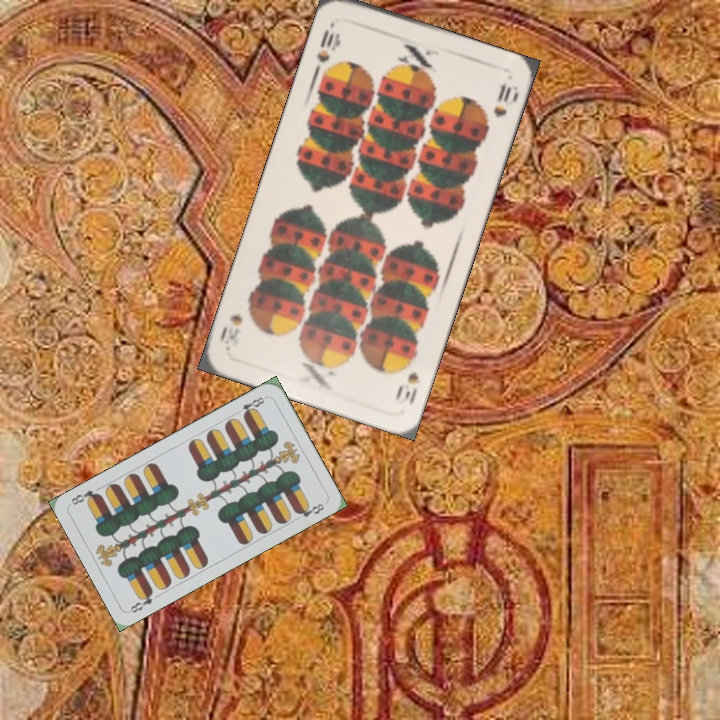E8: (126, 586, 156, 616), (237, 392, 269, 420)
S10: (391, 351, 421, 408), (312, 18, 343, 66)
